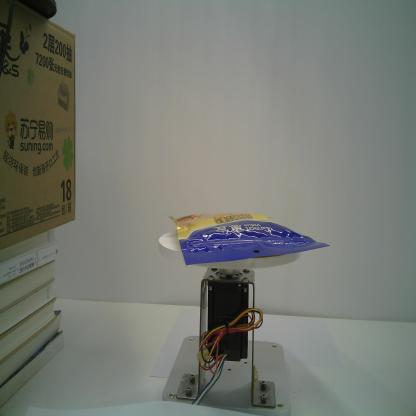Dried Fruit: (167, 211, 330, 267)
